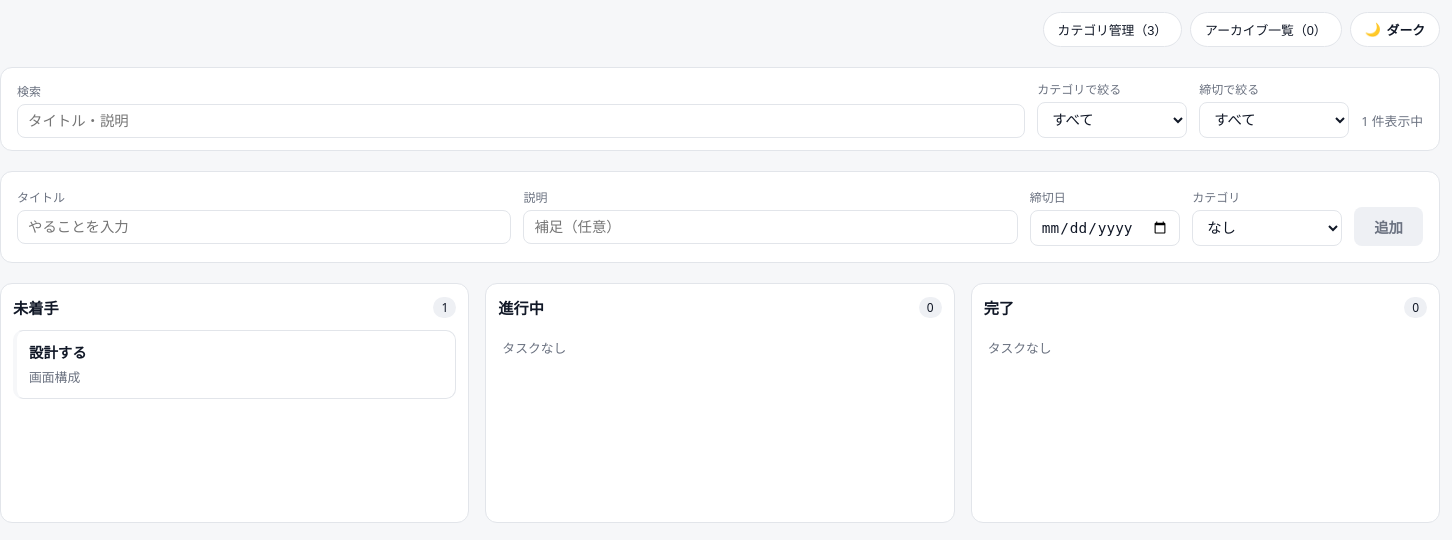
Test: KanbanBoard › 絞り込みで空になった列には該当なしと出す
The width and height of the screenshot is (1452, 540).
Type "存在しない" into the search field labelled "検索".
click(521, 121); type("存在しない")  # box 17,104 -> 1025,138
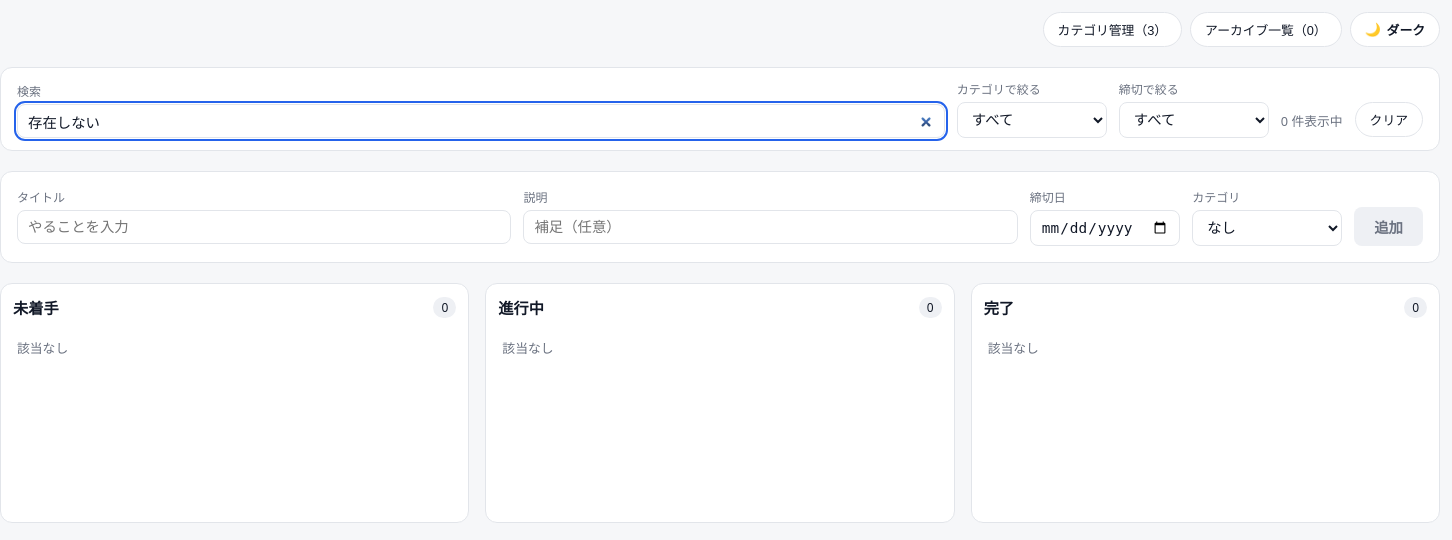
Now the element with test id "column-todo" shows "該当なし", box 17,339 -> 68,357
Now the text "0 件表示中" is shown, box 1281,111 -> 1343,130
